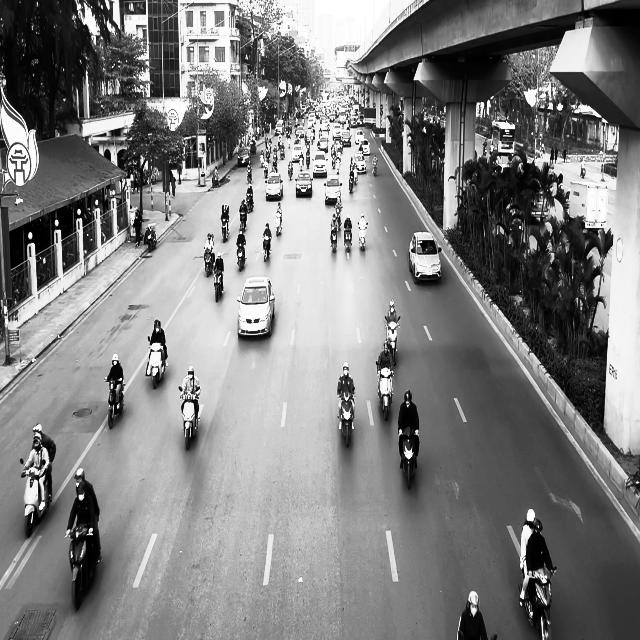bus: (492, 120, 516, 156)
car: (236, 276, 275, 338), (408, 231, 442, 282), (324, 174, 342, 204), (265, 172, 283, 200), (295, 172, 312, 198), (312, 151, 328, 177), (353, 153, 366, 174), (237, 146, 250, 165), (291, 144, 303, 162), (341, 129, 352, 147), (317, 136, 328, 152)
motorbike: (65, 517, 101, 611), (518, 566, 556, 639), (20, 457, 52, 537), (178, 385, 200, 450), (398, 426, 419, 489), (376, 361, 394, 421), (104, 376, 124, 428), (146, 336, 166, 388), (337, 391, 355, 447), (384, 314, 400, 366), (213, 267, 224, 302), (146, 223, 157, 251), (236, 241, 246, 271), (204, 247, 214, 276), (358, 222, 367, 250), (220, 217, 230, 242), (330, 222, 338, 252), (343, 226, 352, 252), (263, 235, 271, 261), (274, 211, 282, 236), (239, 212, 247, 233), (348, 170, 354, 192)
